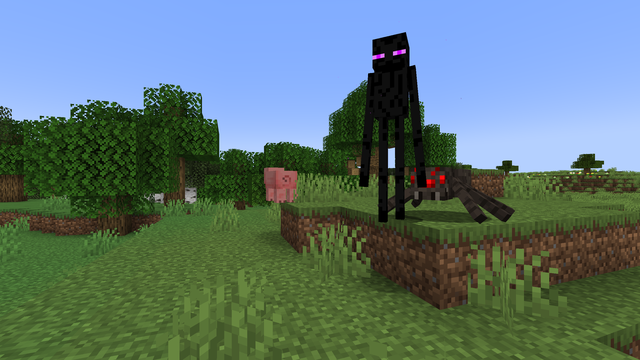araignees: (421, 159, 507, 223)
cochons: (263, 169, 299, 202)
endermens: (365, 24, 418, 222)
